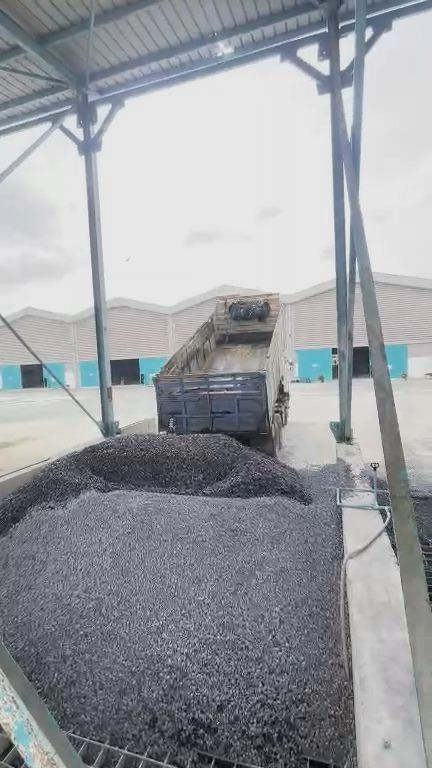gravel: (1, 456, 356, 767), (1, 435, 312, 533), (412, 486, 432, 610)
